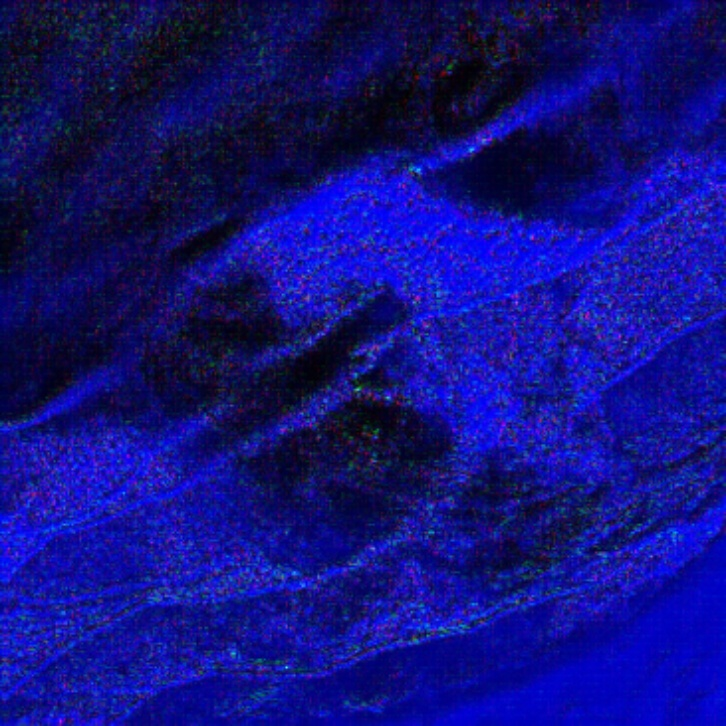rip_current: (96, 230, 590, 584)
